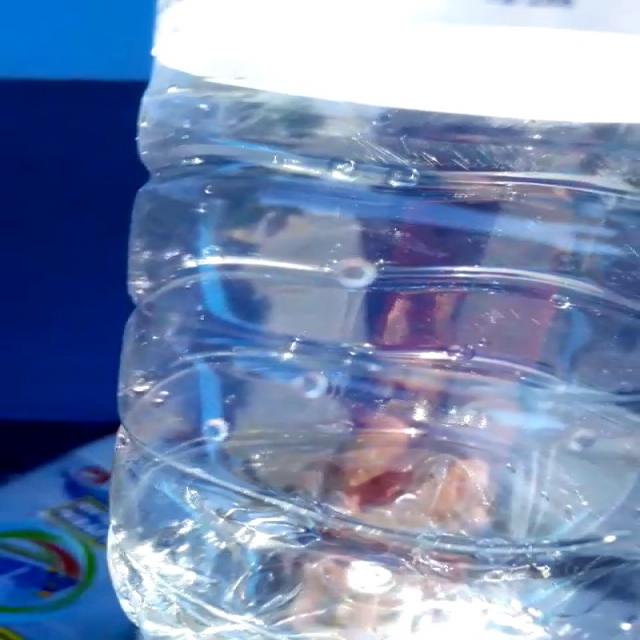plastic: (108, 0, 639, 640)
